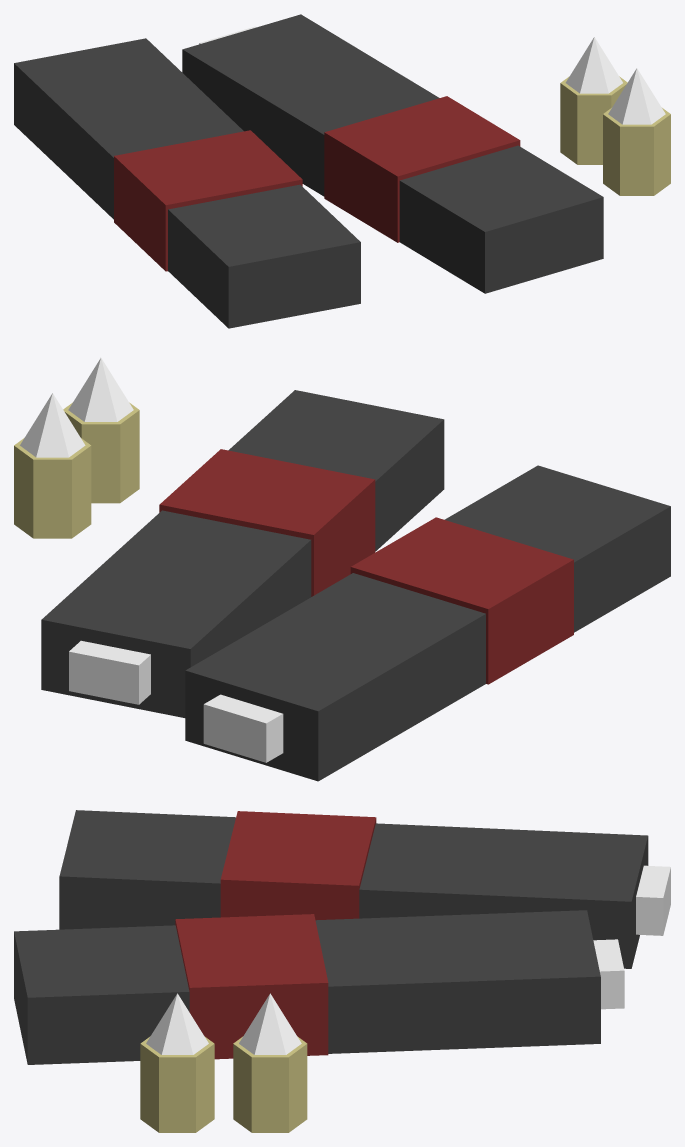
File: ce_ammo_pistol_ap_b.obj
3 views of the same model, one above another, from view 1: azimuth 30°, elevation 25°; view 2: azimuth 150°, elevation 25°; view 3: azimuth 270°, elevation 25° (orthographic). The views are drawn at different scales.
Visible parts, largest first — view 1: ce_ammo_pistol_ap_b_3, ce_ammo_pistol_ap_b_0, ce_ammo_pistol_ap_b_4, ce_ammo_pistol_ap_b_1, ce_ammo_pistol_ap_b_6, ce_ammo_pistol_ap_b_8, ce_ammo_pistol_ap_b_9, ce_ammo_pistol_ap_b_7; view 2: ce_ammo_pistol_ap_b_0, ce_ammo_pistol_ap_b_3, ce_ammo_pistol_ap_b_1, ce_ammo_pistol_ap_b_4, ce_ammo_pistol_ap_b_8, ce_ammo_pistol_ap_b_6, ce_ammo_pistol_ap_b_5, ce_ammo_pistol_ap_b_2, ce_ammo_pistol_ap_b_9, ce_ammo_pistol_ap_b_7; view 3: ce_ammo_pistol_ap_b_3, ce_ammo_pistol_ap_b_0, ce_ammo_pistol_ap_b_4, ce_ammo_pistol_ap_b_1, ce_ammo_pistol_ap_b_6, ce_ammo_pistol_ap_b_8, ce_ammo_pistol_ap_b_2, ce_ammo_pistol_ap_b_7, ce_ammo_pistol_ap_b_9, ce_ammo_pistol_ap_b_5.
Part boxes in pixels (<box>): ce_ammo_pistol_ap_b_3: <box>182,14,603,293</box>; ce_ammo_pistol_ap_b_0: <box>14,38,360,328</box>; ce_ammo_pistol_ap_b_4: <box>324,96,520,242</box>; ce_ammo_pistol_ap_b_1: <box>114,130,302,271</box>; ce_ammo_pistol_ap_b_6: <box>603,108,670,195</box>; ce_ammo_pistol_ap_b_8: <box>560,76,627,164</box>; ce_ammo_pistol_ap_b_9: <box>565,37,622,93</box>; ce_ammo_pistol_ap_b_7: <box>608,68,665,124</box>; ce_ammo_pistol_ap_b_0: <box>185,465,670,781</box>; ce_ammo_pistol_ap_b_3: <box>41,390,444,717</box>; ce_ammo_pistol_ap_b_1: <box>350,517,573,684</box>; ce_ammo_pistol_ap_b_4: <box>159,449,375,596</box>; ce_ammo_pistol_ap_b_8: <box>14,438,91,538</box>; ce_ammo_pistol_ap_b_6: <box>63,402,139,503</box>; ce_ammo_pistol_ap_b_5: <box>69,640,150,704</box>; ce_ammo_pistol_ap_b_2: <box>203,694,283,762</box>; ce_ammo_pistol_ap_b_9: <box>20,393,85,457</box>; ce_ammo_pistol_ap_b_7: <box>68,358,133,421</box>; ce_ammo_pistol_ap_b_3: <box>14,910,600,1064</box>; ce_ammo_pistol_ap_b_0: <box>59,810,648,968</box>; ce_ammo_pistol_ap_b_4: <box>175,914,328,1059</box>; ce_ammo_pistol_ap_b_1: <box>220,811,376,920</box>; ce_ammo_pistol_ap_b_6: <box>140,1036,214,1132</box>; ce_ammo_pistol_ap_b_8: <box>233,1036,307,1132</box>; ce_ammo_pistol_ap_b_2: <box>636,865,670,935</box>; ce_ammo_pistol_ap_b_7: <box>146,993,208,1054</box>; ce_ammo_pistol_ap_b_9: <box>239,993,301,1054</box>; ce_ammo_pistol_ap_b_5: <box>593,939,624,1009</box>.
Bounding box in the file's own units: 0.6515 × 0.15 × 0.708.
